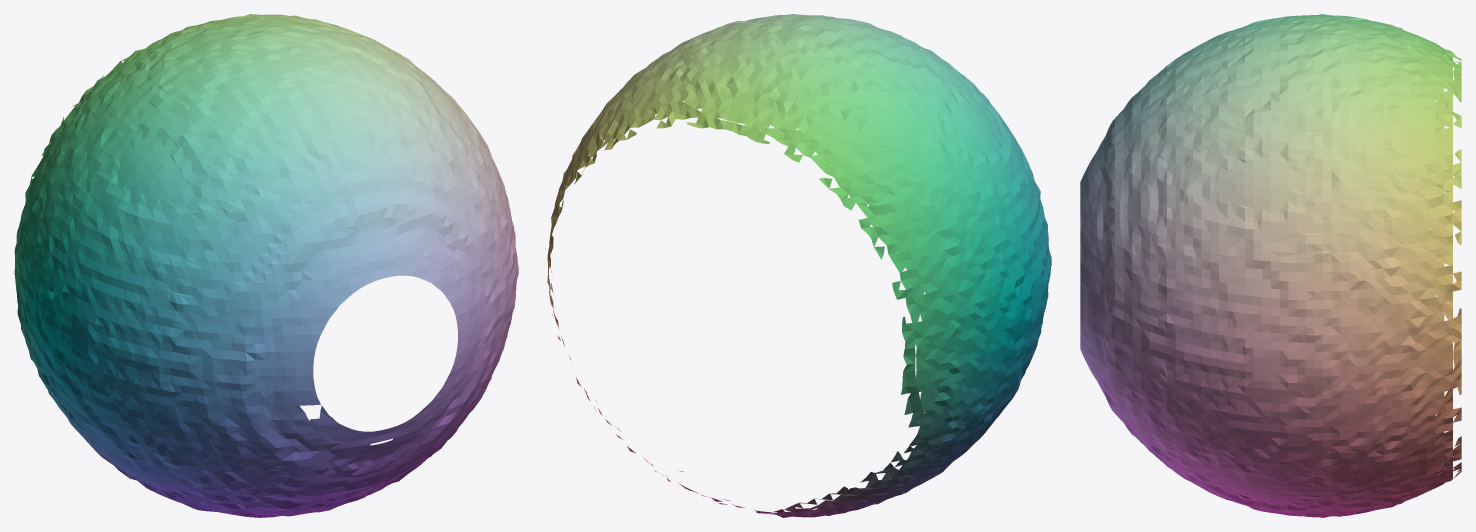
The model's file is mesh_light.glb.
3 renders of one model, left to right at view 1: azimuth 30°, elevation 25°; view 2: azimuth 150°, elevation 25°; view 3: azimuth 270°, elevation 25°, orthographic.
Parts seen in each view (by area): view 1: geometry_0; view 2: geometry_0; view 3: geometry_0.
Part boxes in pixels (x1=…): geometry_0: x1=14, y1=14, x2=518, y2=517; geometry_0: x1=547, y1=14, x2=1051, y2=517; geometry_0: x1=1080, y1=14, x2=1461, y2=517.
Bounding box in the file's own units: 2.02 × 2.02 × 1.52.
